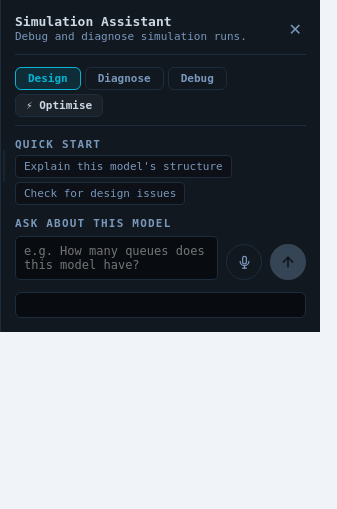
it: Run assistant layout › keeps modes and close available while switching content in the sidebar
Expected: the button "Design" is shown, [15,67,81,90]
Expected: the number of buttons "⚡ Optimise" is 1, [15,94,103,117]
Type "Explain my queues" into the text box with placeholder "e.g. How many queues does this model have?".
click(116, 258); type("Explain my queues")  # box [15,236,218,280]
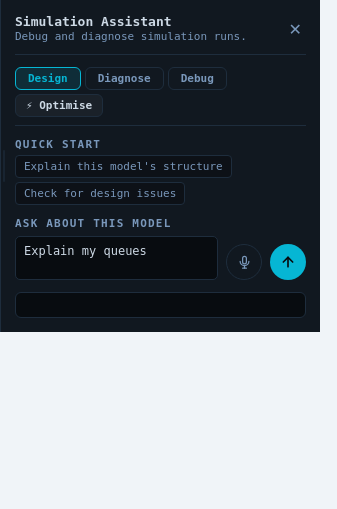
Click the button "Diagnose".
click(124, 79)  # box [85,67,164,90]
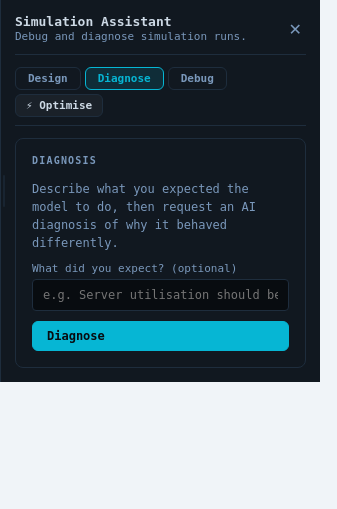
Expected: the text "Debugging Chat" is not shown
Expected: the text "Diagnosis" is shown, [32,155,97,166]
Click the button "Debug".
click(197, 79)  # box [168,67,227,90]
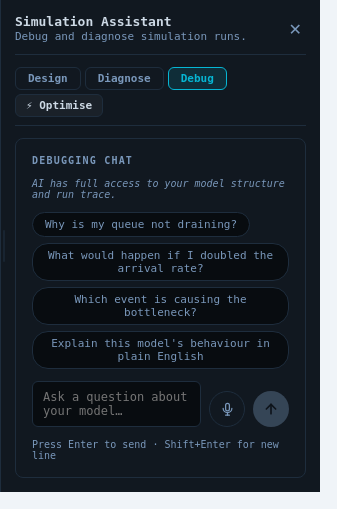
Expected: the text "Debugging Chat" is shown, [32,155,133,166]
Expected: the text "Diagnosis" is gone
Expected: the text box with placeholder "Ask a question about your model…" is shown, [32,381,201,427]
Click the button "Design".
click(48, 79)  # box [15,67,81,90]
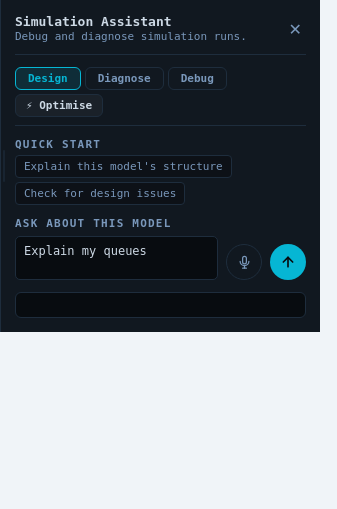
Expected: the text box showing "Explain my queues" is shown, [15,236,218,280]
Expected: the element named "AI analysis response" is shown, [15,292,306,318]
